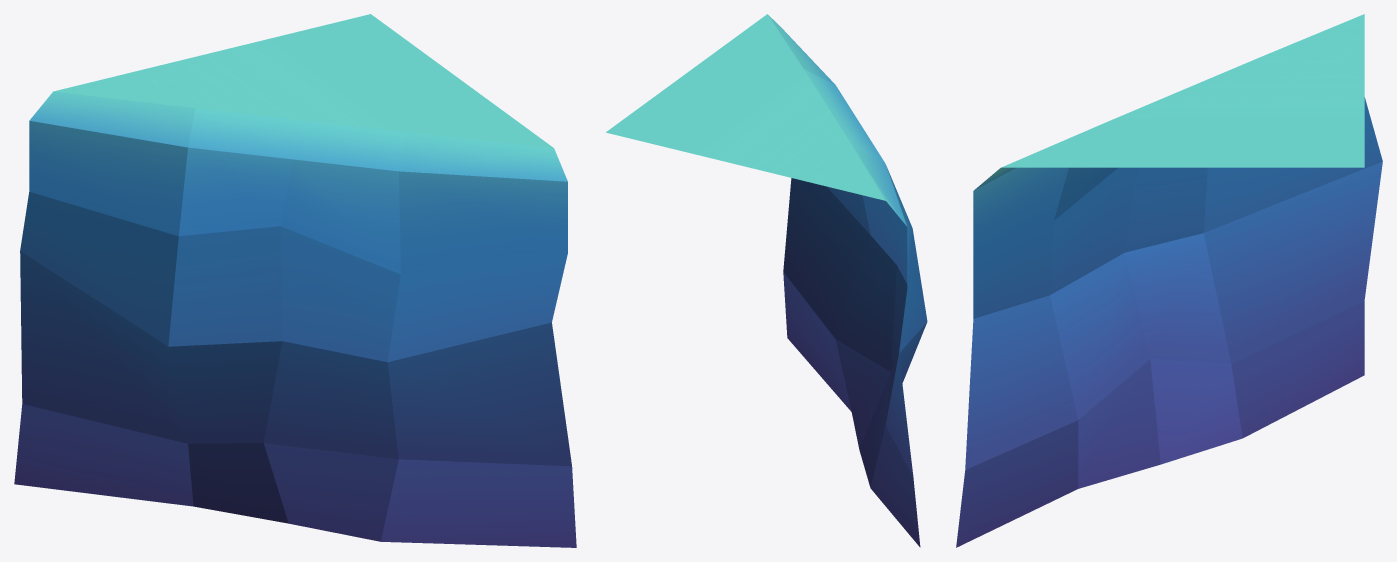
The picture shows the model from 3 angles, left to right: view 1: azimuth 30°, elevation 25°; view 2: azimuth 150°, elevation 25°; view 3: azimuth 270°, elevation 25°; orthographic projection. The views are drawn at different scales.
Parts seen in each view (by area): view 1: Diagonal.001, DiagonalTop.001; view 2: Diagonal.001, DiagonalTop.001; view 3: Diagonal.001, DiagonalTop.001.
Part boxes in pixels (box(x1,y1,x2,y2)): Diagonal.001: box(14, 91, 576, 547); DiagonalTop.001: box(53, 14, 553, 147); Diagonal.001: box(768, 15, 927, 547); DiagonalTop.001: box(606, 14, 885, 200); Diagonal.001: box(956, 97, 1382, 547); DiagonalTop.001: box(1001, 14, 1364, 167).
Size of the model in its own units: 97.35 by 102 by 102.
